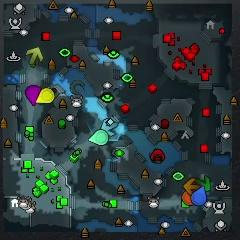p1: (191, 186, 206, 205)
p2: (89, 130, 108, 145)
p3: (25, 85, 41, 106)
p4: (36, 88, 55, 104)
p5: (182, 191, 194, 206)
x2: (27, 47, 43, 64)
x3: (100, 118, 118, 137)
x4: (196, 175, 211, 191)
x5: (183, 178, 200, 195)
